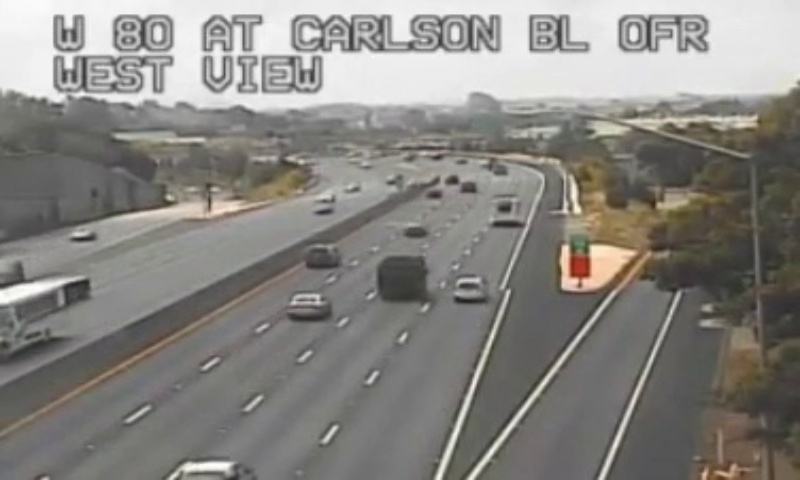bus: (489, 193, 521, 225)
car: (287, 292, 329, 319), (451, 276, 485, 303), (304, 243, 340, 268)
small-truck: (376, 256, 425, 299)
